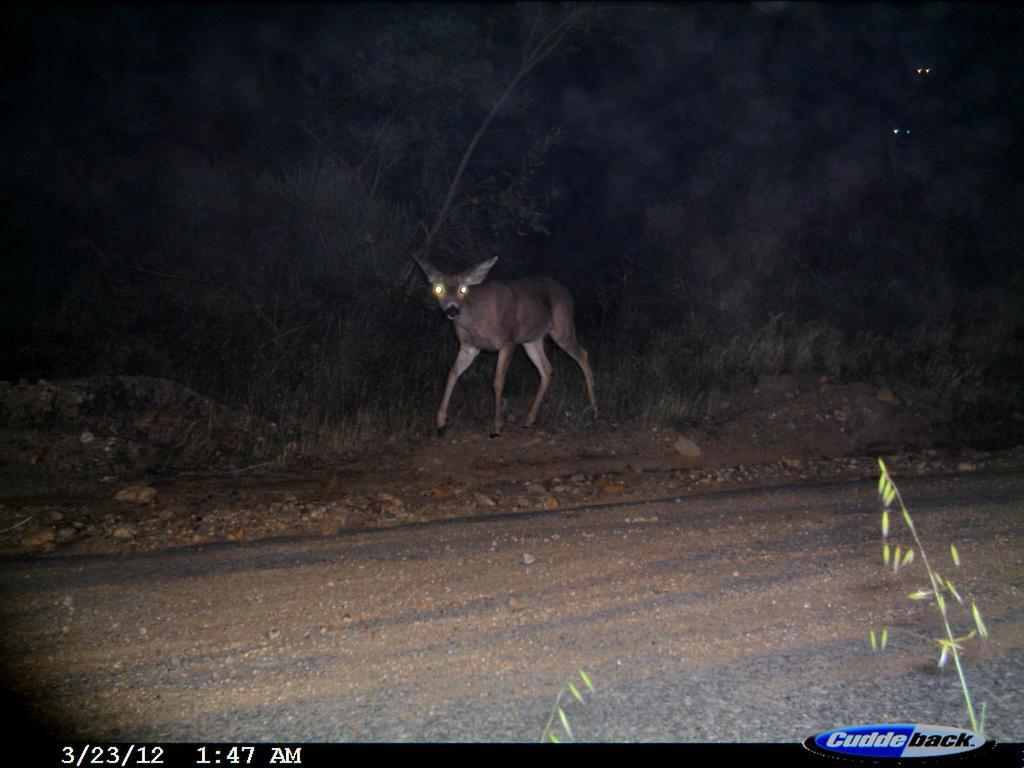deer: (401, 246, 609, 431)
